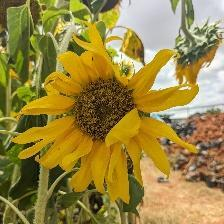sunflower: (48, 37, 170, 189)
